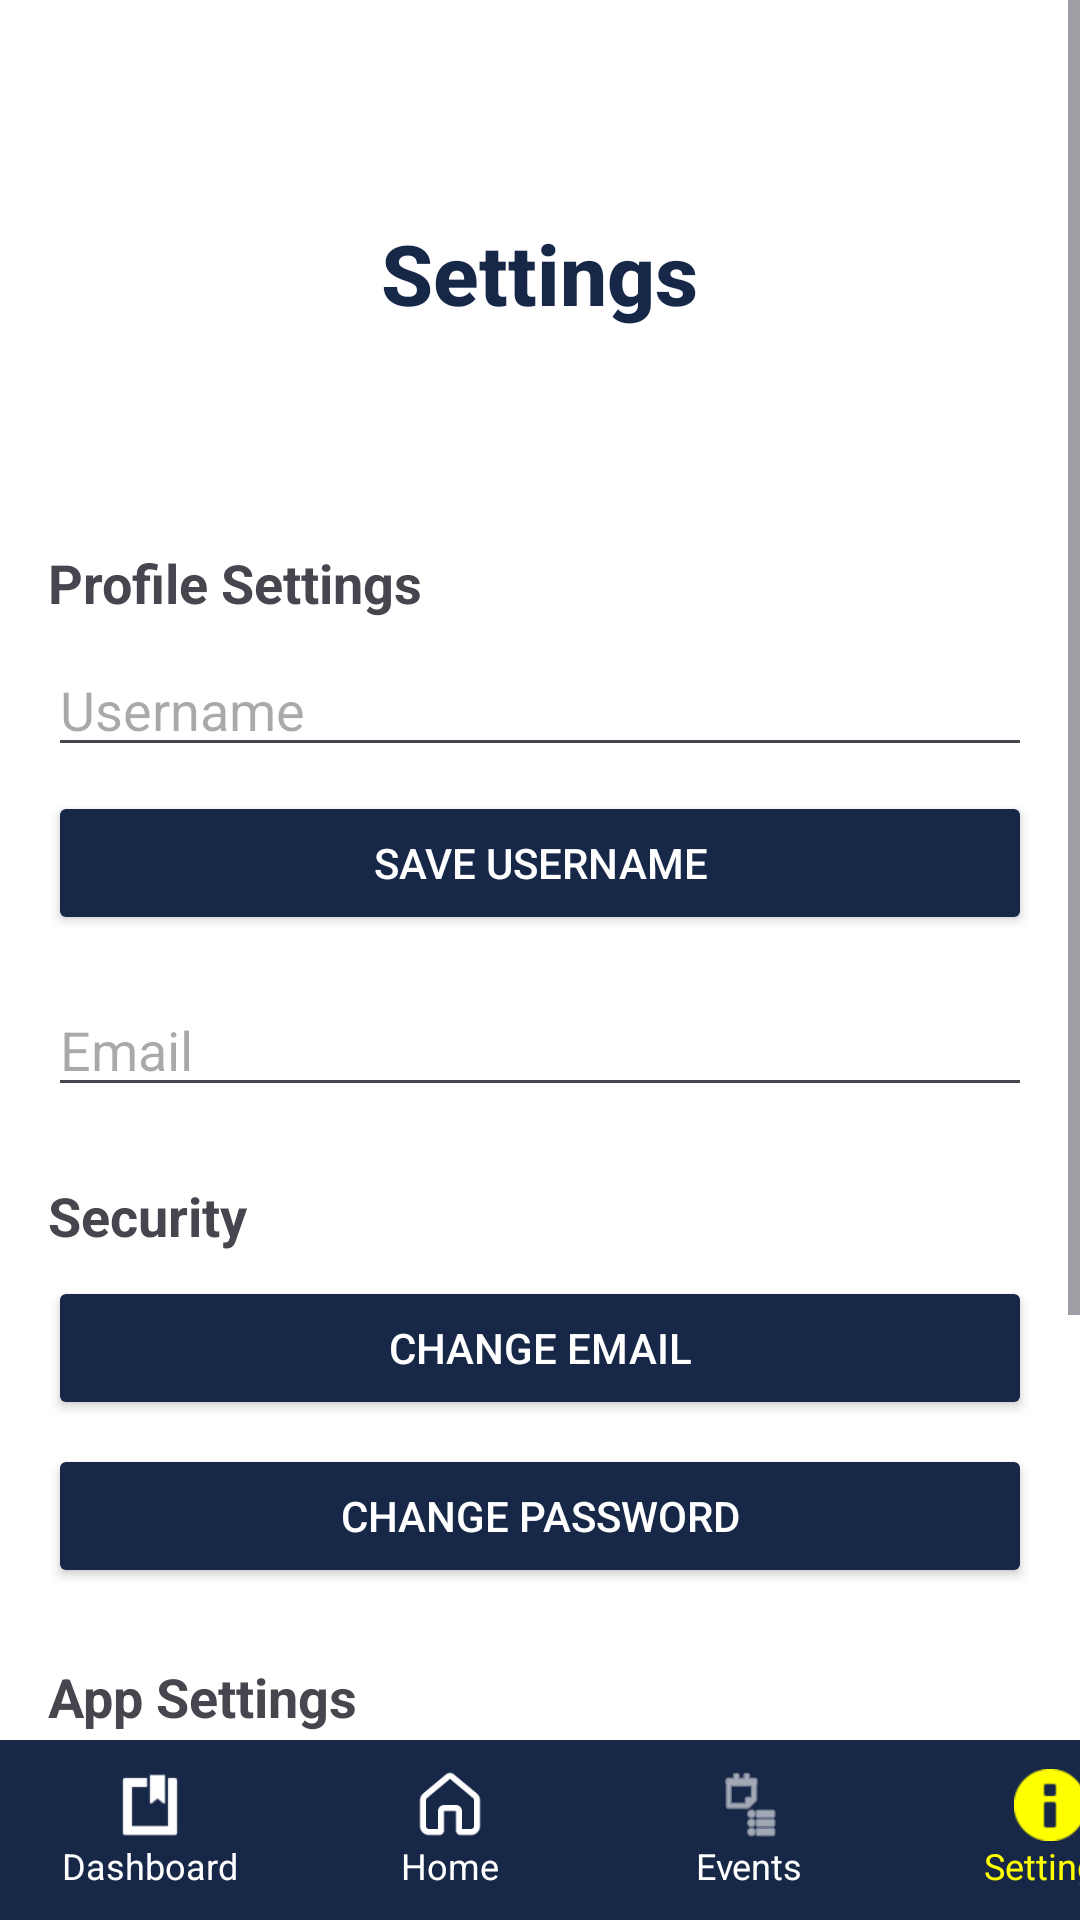

Screen size 1080 x 1920. Icon name, then its center in pixels as [x,y]:
agenda: [750,1805]
info: [1047,1805]
